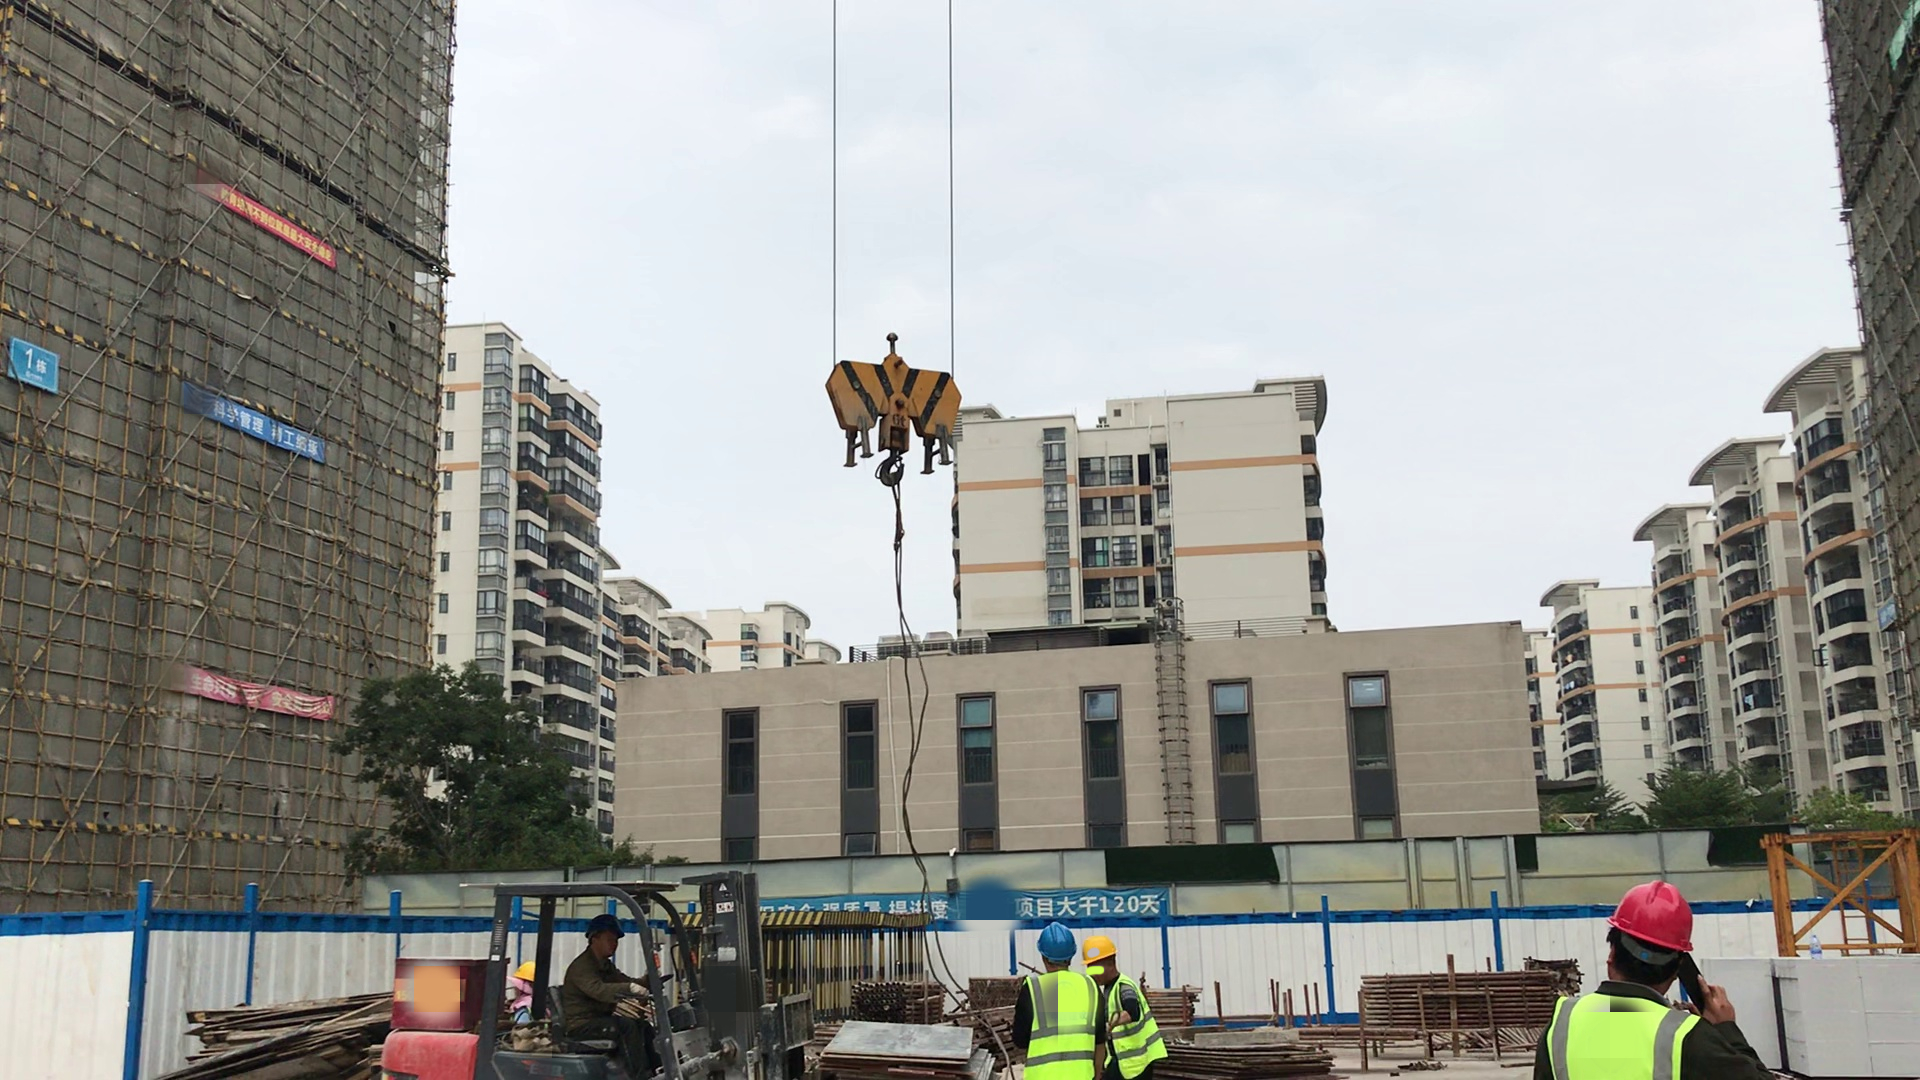brick: (1715, 950, 1920, 1072)
helmet: (1605, 882, 1708, 951), (1034, 916, 1076, 965), (1090, 929, 1132, 977), (582, 907, 623, 939)
hook: (822, 330, 965, 471)
person: (1535, 880, 1771, 1080), (548, 902, 662, 1074), (1083, 940, 1169, 1079), (1012, 932, 1081, 1080)
scaffold: (843, 968, 952, 1028)
slogan: (842, 880, 1181, 917), (220, 169, 338, 266), (194, 656, 338, 728), (208, 388, 324, 458)
vest: (1543, 976, 1696, 1080), (1021, 969, 1091, 1080), (1109, 987, 1158, 1056)
